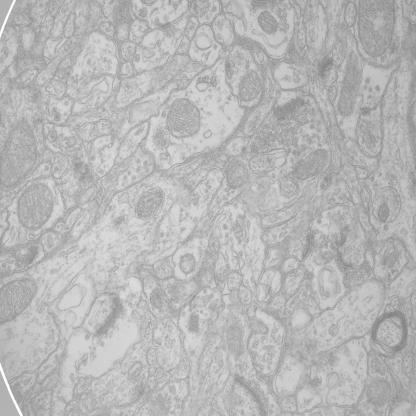mitochondria: (0, 119, 37, 188), (356, 0, 396, 59), (14, 181, 55, 232), (0, 276, 37, 326), (337, 55, 364, 120), (165, 95, 202, 141), (224, 159, 249, 191), (366, 379, 392, 409), (239, 69, 261, 104), (257, 10, 279, 38), (377, 202, 390, 223)
